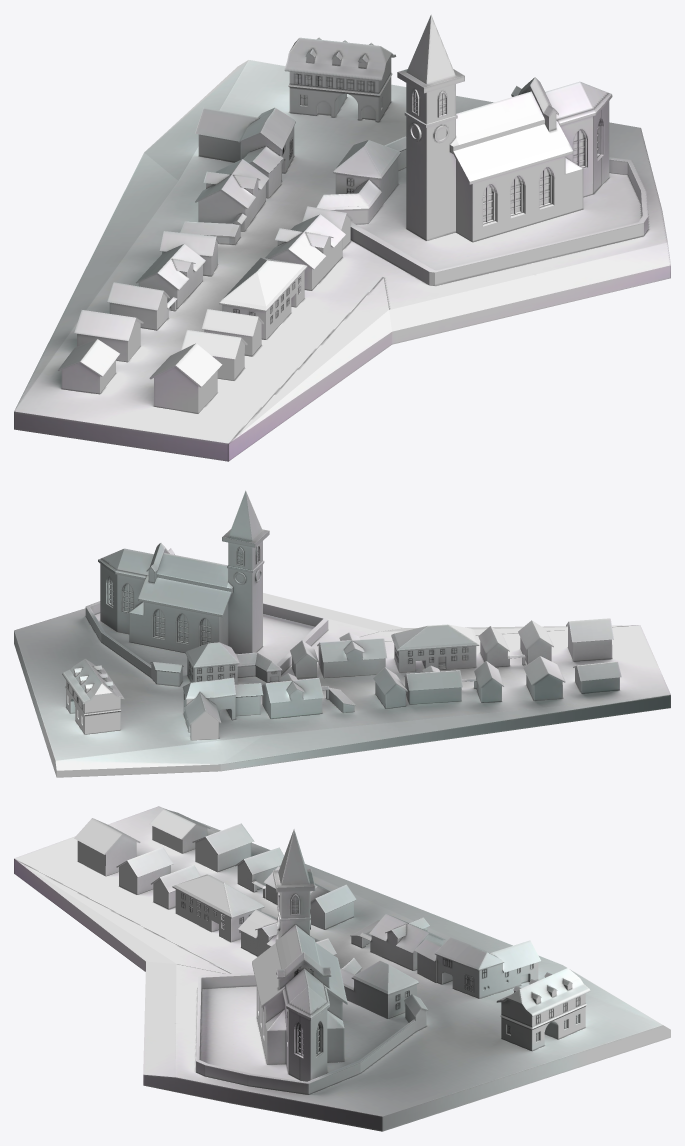
The model's file is kleestadt.glb.
3 views of the same model, one above another, from view 1: azimuth 30°, elevation 25°; view 2: azimuth 150°, elevation 25°; view 3: azimuth 270°, elevation 25° (orthographic). The views are drawn at different scales.
Visible parts, largest first — view 1: Cube.120; view 2: Cube.120; view 3: Cube.120.
Part boxes in pixels (bbox=[...]): Cube.120: bbox=[14, 14, 670, 461]; Cube.120: bbox=[14, 490, 670, 777]; Cube.120: bbox=[14, 806, 670, 1131].
Size of the model in its own units: 10.47 by 3.08 by 9.36.
1 material, 1 textured.
